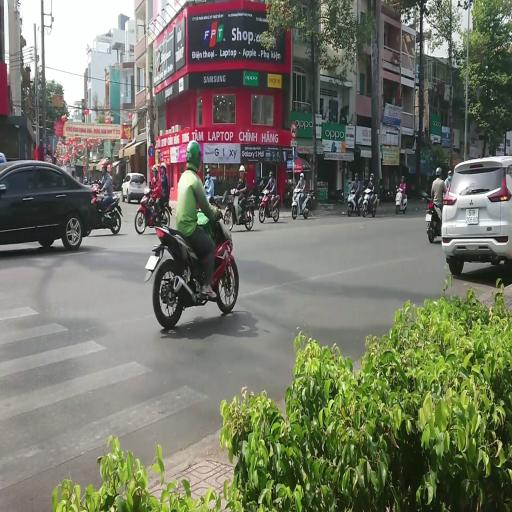bikes: (144, 199, 239, 329), (86, 182, 122, 235), (134, 187, 171, 234), (224, 188, 254, 232), (421, 190, 442, 242), (209, 192, 233, 230), (258, 189, 280, 222), (291, 187, 313, 219), (347, 184, 363, 216), (362, 186, 378, 217), (209, 195, 223, 221), (395, 185, 407, 214), (282, 179, 294, 205), (329, 189, 345, 204), (380, 184, 393, 202)
helmet: (185, 140, 201, 171), (151, 165, 158, 174), (143, 188, 150, 196), (436, 167, 442, 176), (160, 162, 166, 171), (151, 177, 157, 186), (92, 185, 98, 193), (102, 160, 108, 168), (209, 196, 215, 204), (239, 165, 245, 172), (101, 166, 106, 173), (445, 179, 449, 187), (400, 183, 405, 189), (205, 174, 210, 180), (288, 179, 293, 185), (107, 166, 112, 172), (429, 202, 433, 209), (96, 179, 101, 184), (300, 172, 304, 178), (269, 171, 273, 177), (206, 168, 210, 174), (368, 182, 372, 188), (398, 184, 402, 190), (370, 173, 373, 180), (401, 176, 405, 181), (355, 173, 358, 179), (448, 170, 451, 175)
